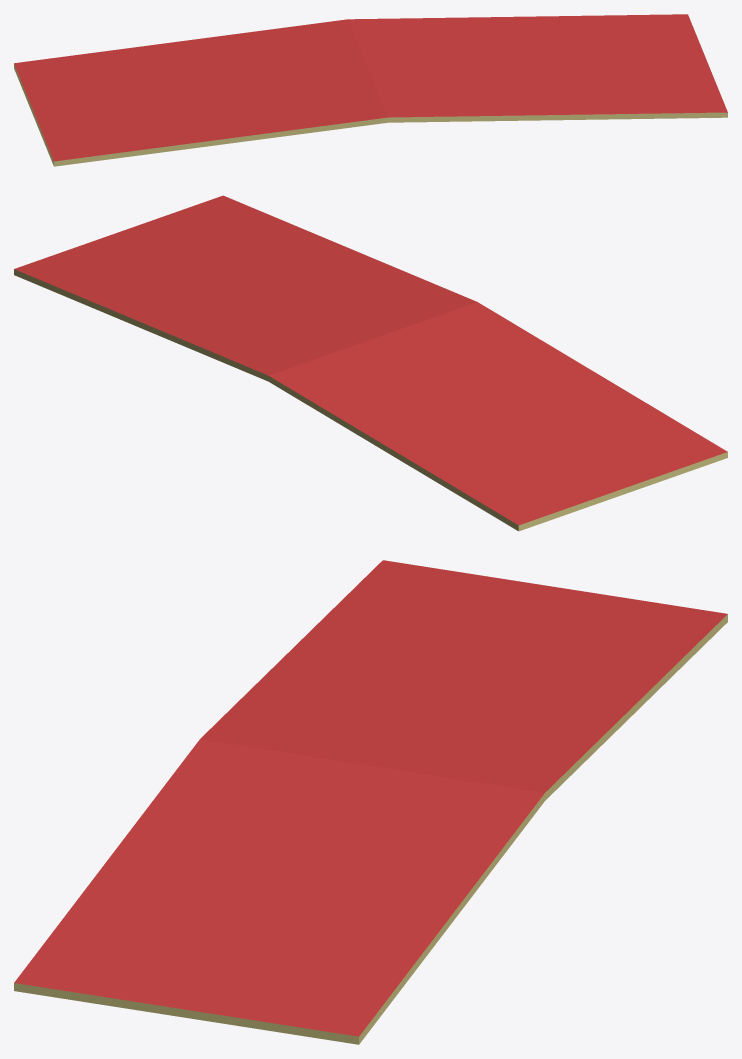
3 views of the same model, one above another, from view 1: azimuth 30°, elevation 25°; view 2: azimuth 150°, elevation 25°; view 3: azimuth 270°, elevation 25° (orthographic). The views are drawn at different scales.
Size of the model in its own units: 12.55 by 7.95 by 0.477.
